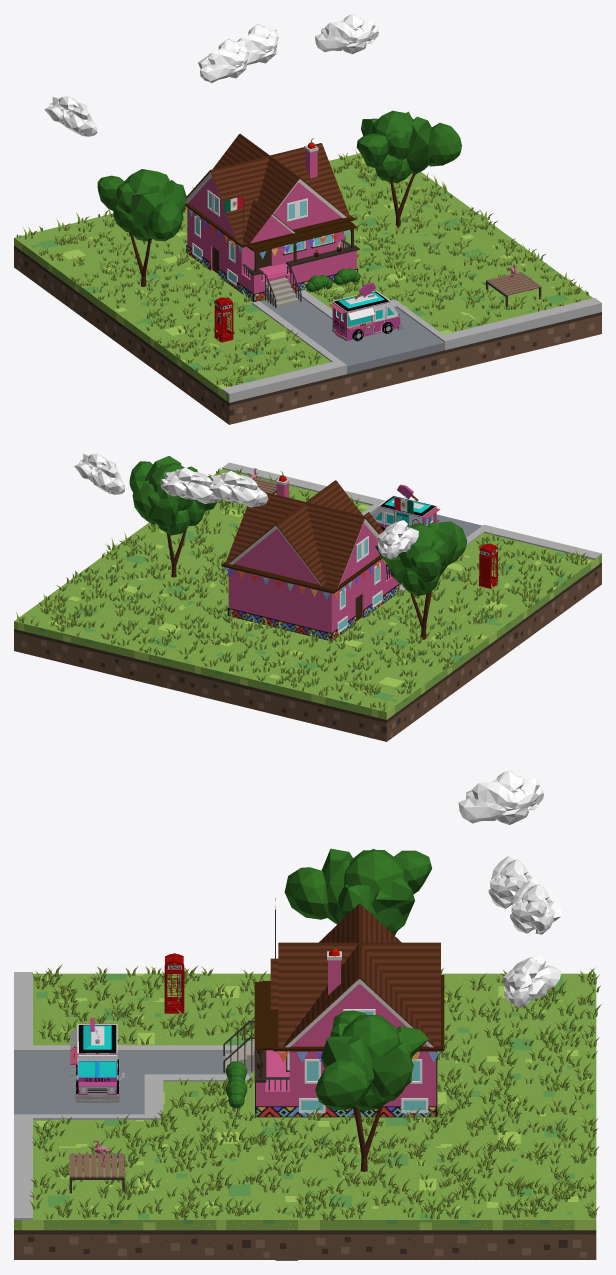
The picture shows the model from 3 angles, top to bottom: view 1: azimuth 30°, elevation 25°; view 2: azimuth 150°, elevation 25°; view 3: azimuth 270°, elevation 25°; orthographic projection. The views are drawn at different scales.
Visible parts, largest first — view 1: Cube.006, Cube.1005, Circle.012_Grass_0.192, Cube.007, tree, tree.001, VEHICLES_ICE_CREAM_TRUCK, Cube.009, OBJRANDOM_PHONEBOOTH; view 2: Cube.006, Cube.1005, Circle.012_Grass_0.192, Cube.007, tree.001, tree, VEHICLES_ICE_CREAM_TRUCK, OBJRANDOM_PHONEBOOTH; view 3: Cube.006, Circle.012_Grass_0.192, Cube.1005, tree, Cube.007, tree.001, VEHICLES_ICE_CREAM_TRUCK, Cube.009, OBJRANDOM_PHONEBOOTH.
Part boxes in pixels (x1,y1,x2,y2): Cube.006: (14, 153, 601, 424); Cube.1005: (184, 134, 359, 307); Circle.012_Grass_0.192: (16, 150, 588, 386); Cube.007: (44, 14, 378, 136); tree: (356, 110, 461, 228); tree.001: (97, 169, 186, 286); VEHICLES_ICE_CREAM_TRUCK: (329, 282, 403, 341); Cube.009: (486, 272, 541, 306); OBJRANDOM_PHONEBOOTH: (214, 297, 233, 342); Cube.006: (14, 462, 601, 741); Cube.1005: (221, 471, 413, 640); Circle.012_Grass_0.192: (16, 468, 588, 711); Cube.007: (74, 453, 418, 559); tree.001: (375, 521, 467, 639); tree: (129, 456, 216, 577); VEHICLES_ICE_CREAM_TRUCK: (372, 484, 440, 530); OBJRANDOM_PHONEBOOTH: (478, 543, 498, 588); Cube.006: (14, 972, 596, 1259); Circle.012_Grass_0.192: (29, 964, 601, 1221); Cube.1005: (223, 897, 444, 1117); tree: (315, 1010, 428, 1171); Cube.007: (458, 770, 561, 1007); tree.001: (284, 848, 432, 935); VEHICLES_ICE_CREAM_TRUCK: (70, 1018, 124, 1102); Cube.009: (69, 1153, 124, 1193); OBJRANDOM_PHONEBOOTH: (164, 953, 184, 1013).
Bounding box in the file's own units: 4071 × 2184 × 4040.
Materials: 84 (5 with a texture image).
